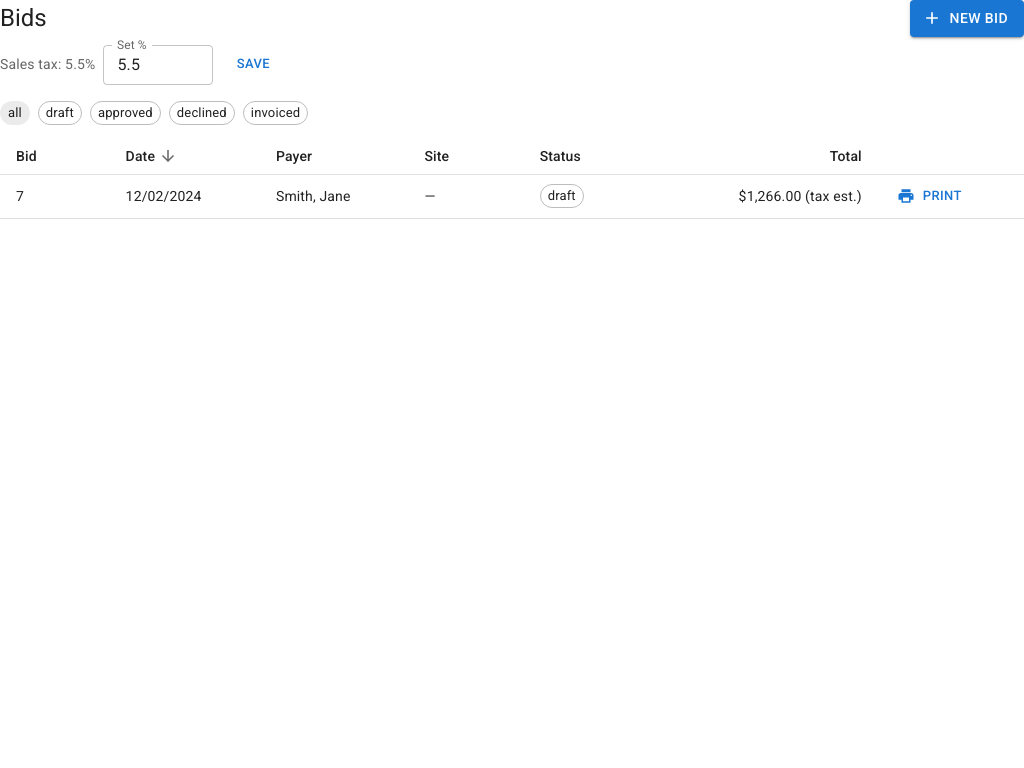
T-BIL-18: a site the search cannot find is one form away › an empty address keeps the create button dead — a site a crew cannot find is not a site
The image size is (1024, 768).
Expected: the text "Smith, Jane" is shown, [260,174,408,218]
Click the button "New bid".
click(967, 18)  # box [910,0,1023,36]
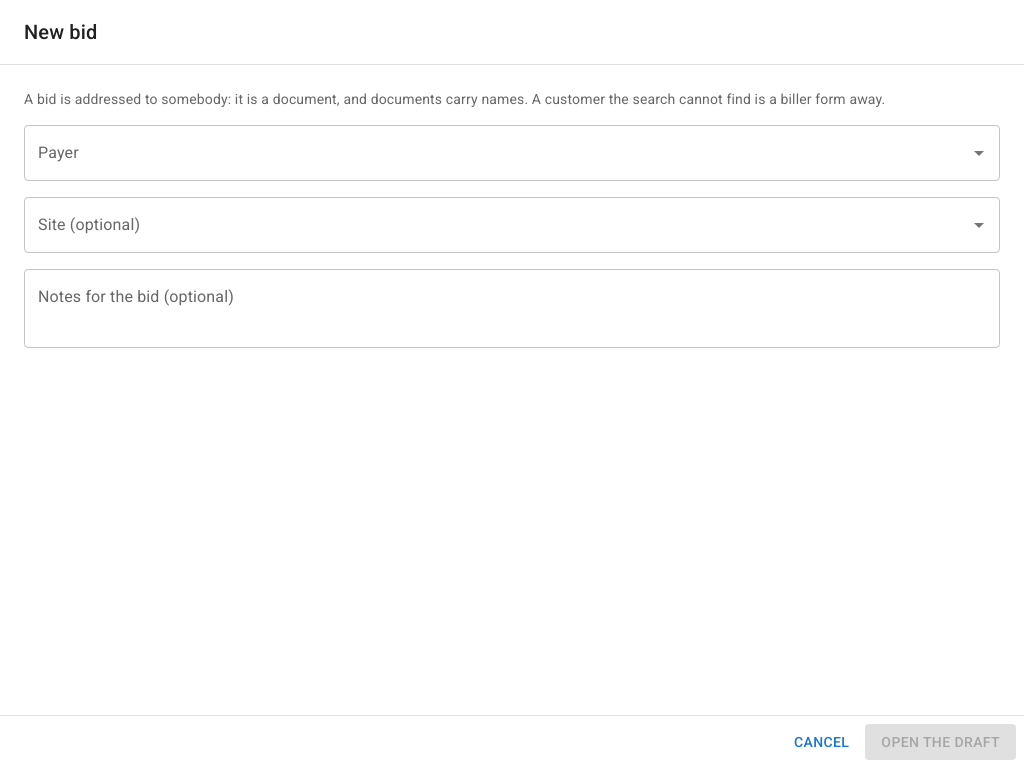
Type "Nowhere Lane" into the dropdown named "site search".
click(497, 225); type("Nowhere Lane")  # box [33,206,961,244]
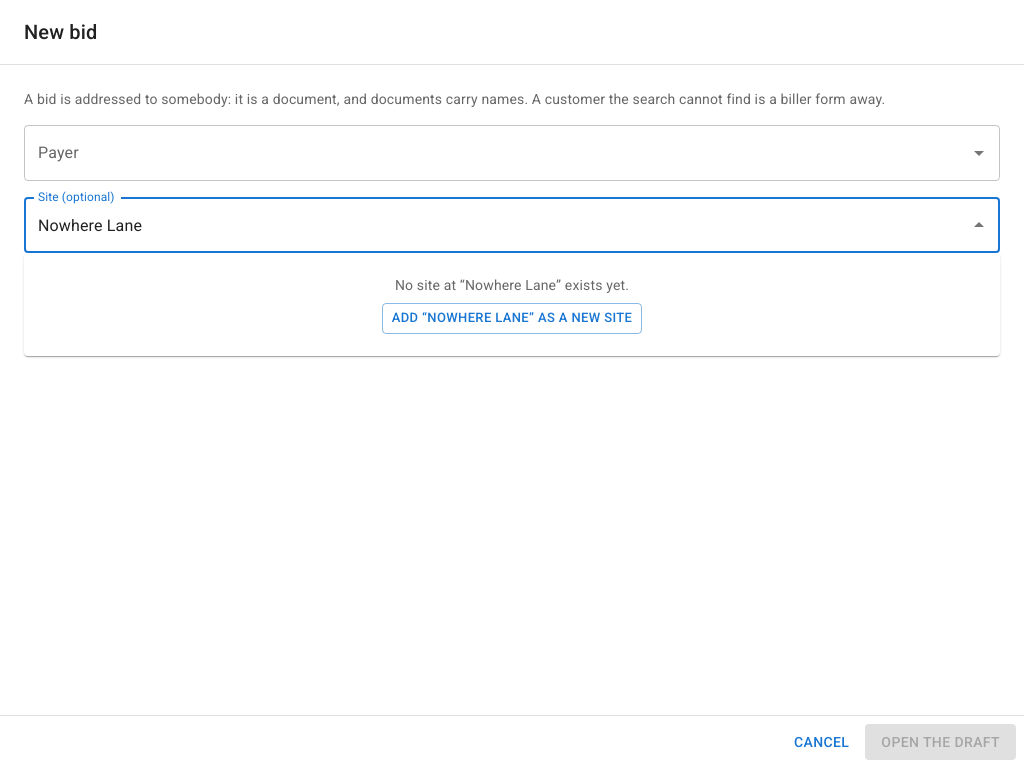
# seed the form empty by hand: clear what the door prefills
Click the button "Add “Nowhere Lane” as a new site".
click(512, 318)  # box [382,303,642,334]
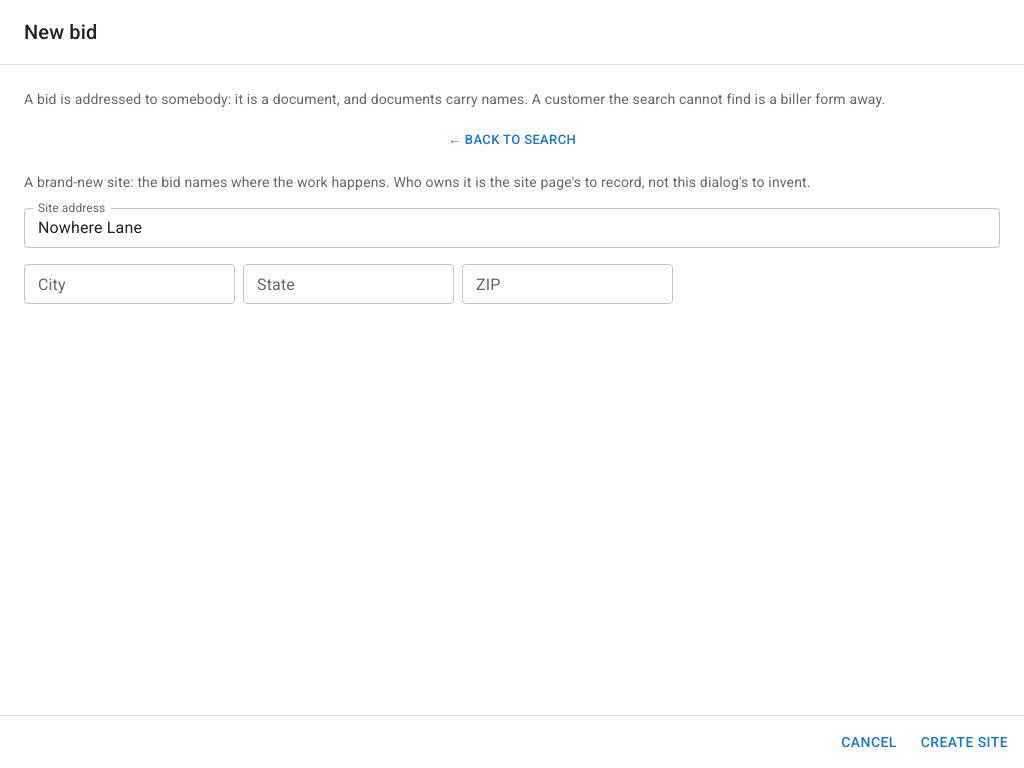
Clear the field labelled "Site address" at (512, 228), box [24,208,1000,248]
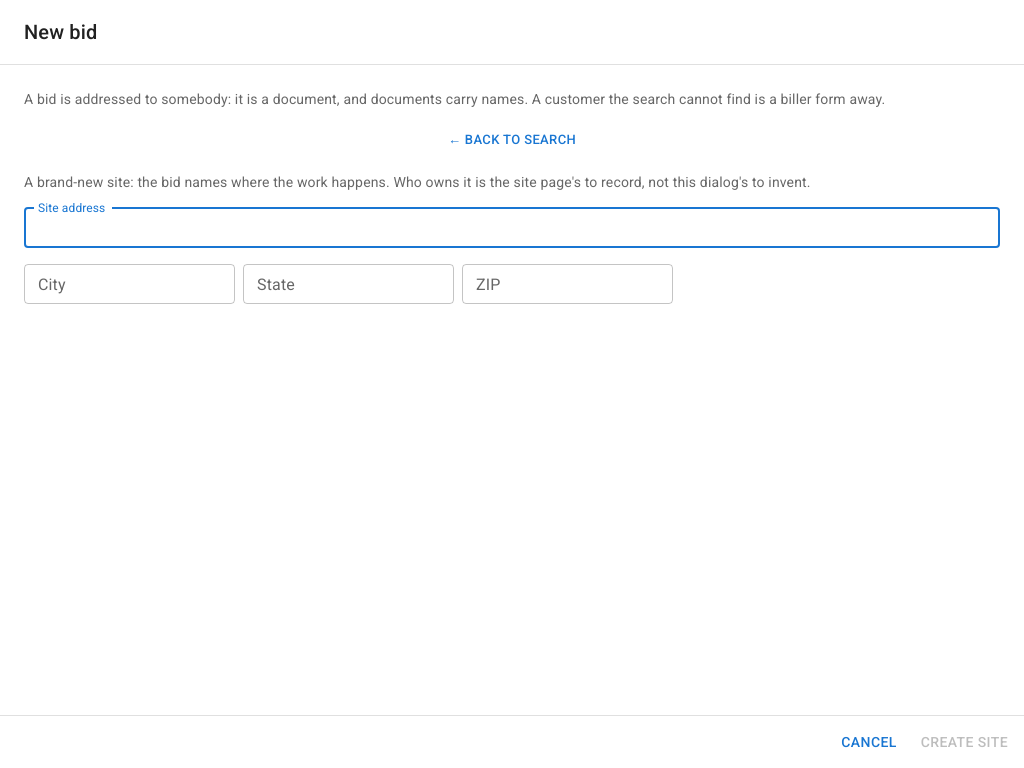
Now the button "Create site" is disabled, box [913,724,1016,760]
Type "5 Nowhere Lane" into the field labelled "Site address".
click(512, 228); type("5 Nowhere Lane")  # box [24,208,1000,248]
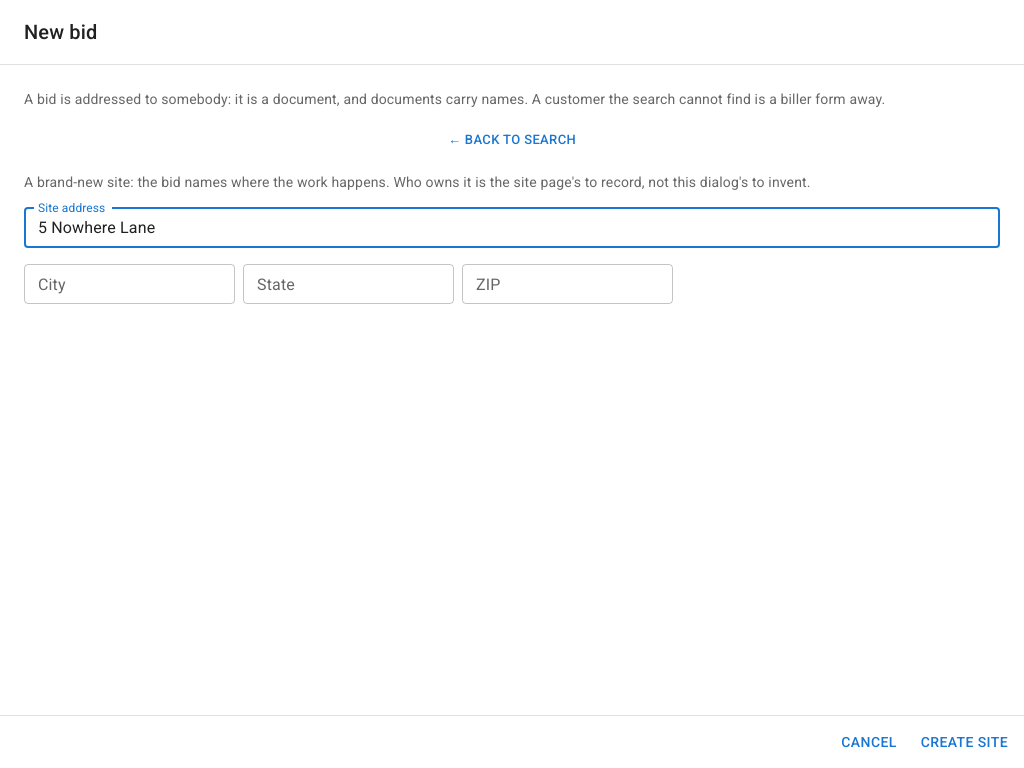
Now the button "Create site" is enabled, box [913,724,1016,760]
